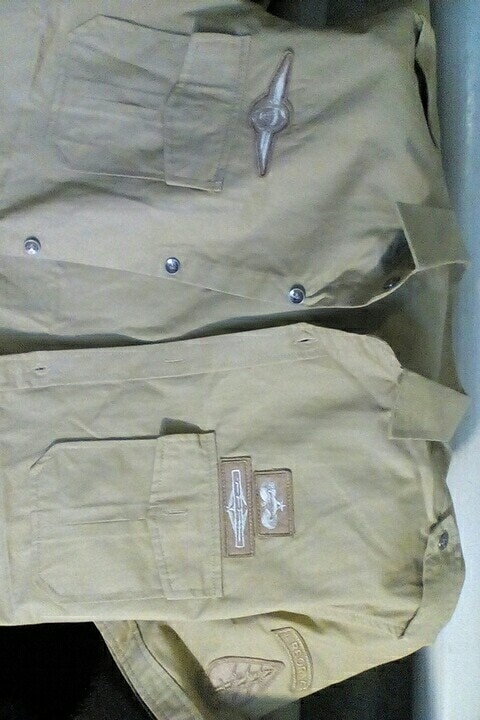shirts: (22, 18, 474, 686)
